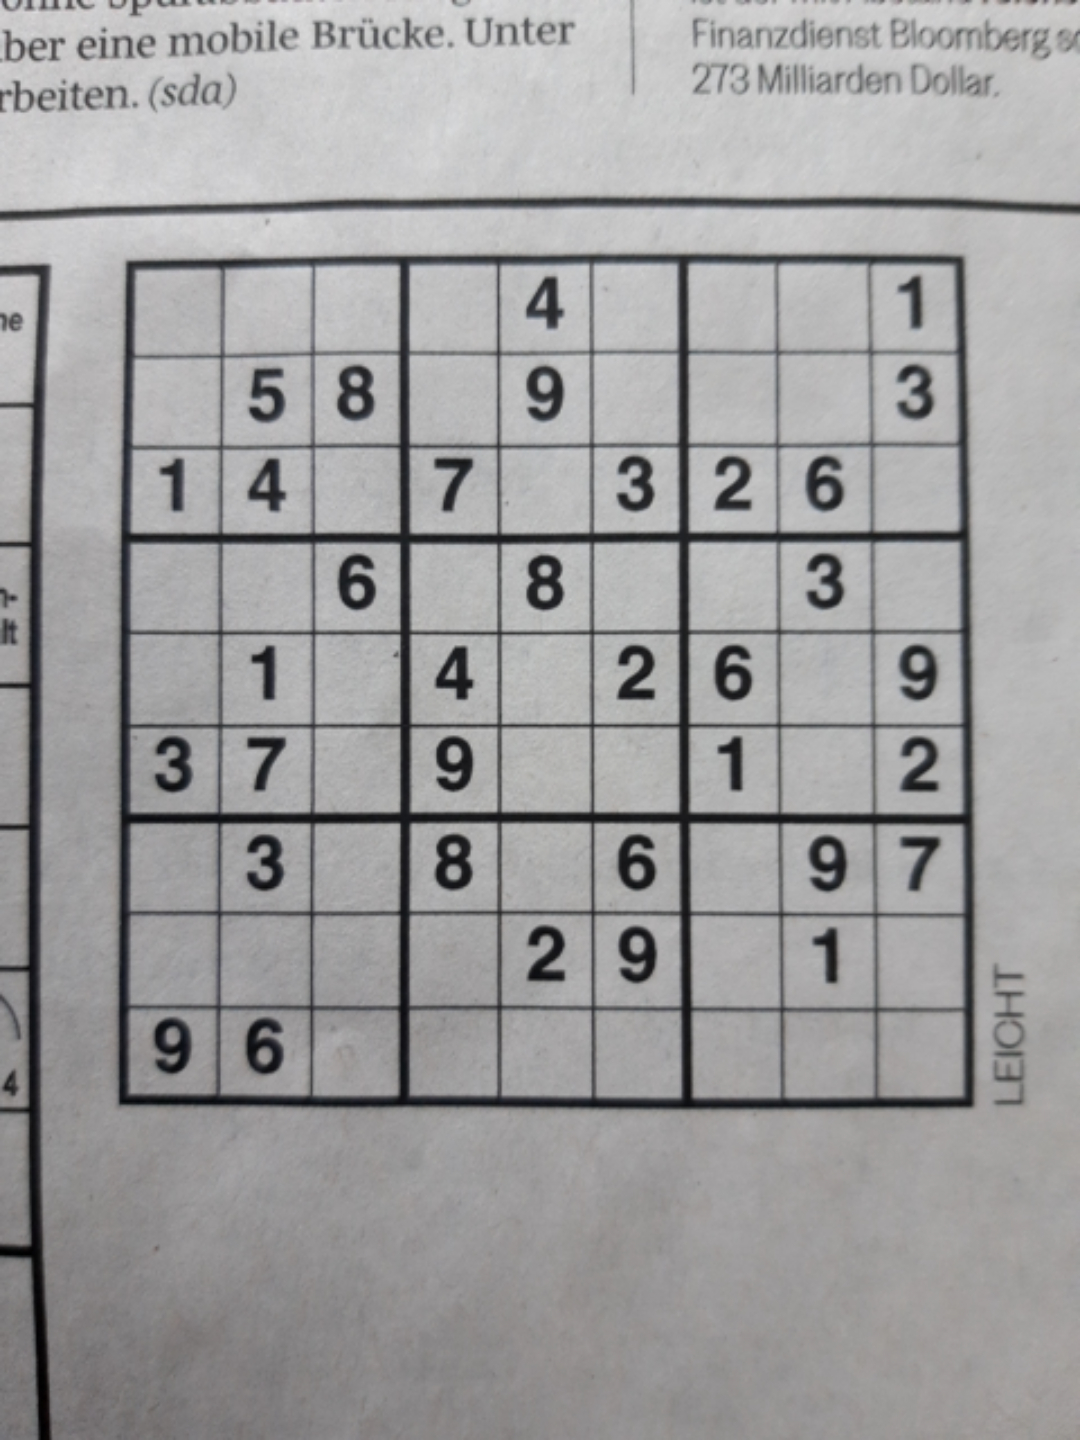sudoku: (120, 249, 977, 1107)
